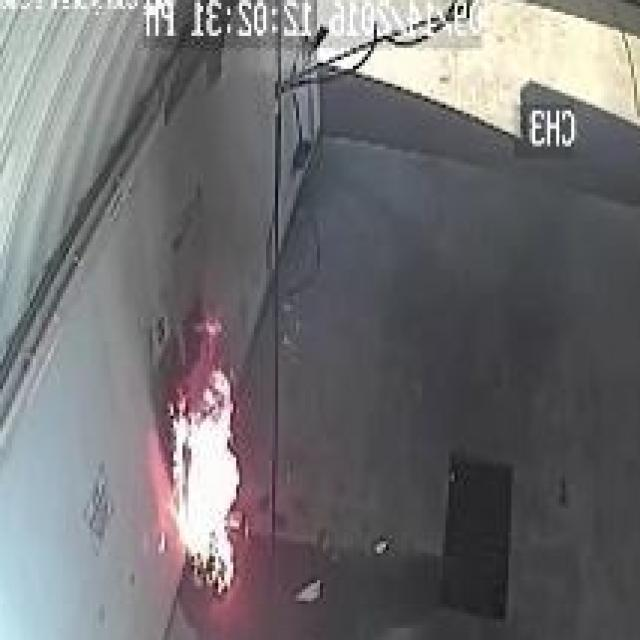smoke: (160, 364, 247, 602)
